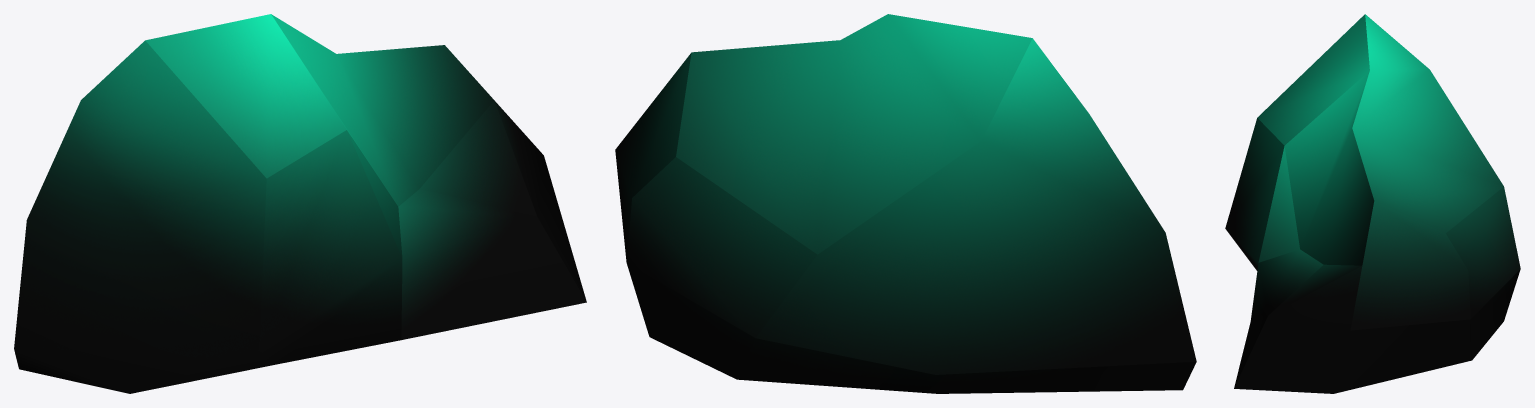
Rendered from Rock_02.fbx.
3 views of the same model, side by side, from view 1: azimuth 30°, elevation 25°; view 2: azimuth 150°, elevation 25°; view 3: azimuth 270°, elevation 25° (orthographic). The views are drawn at different scales.
Parts seen in each view (by area): view 1: Rock02_GEO; view 2: Rock02_GEO; view 3: Rock02_GEO.
Part boxes in pixels (x1,y1,x2,y2): Rock02_GEO: [14, 14, 586, 393]; Rock02_GEO: [615, 14, 1196, 393]; Rock02_GEO: [1225, 14, 1520, 393].
Size of the model in its own units: 45.98 by 24.28 by 27.61.
